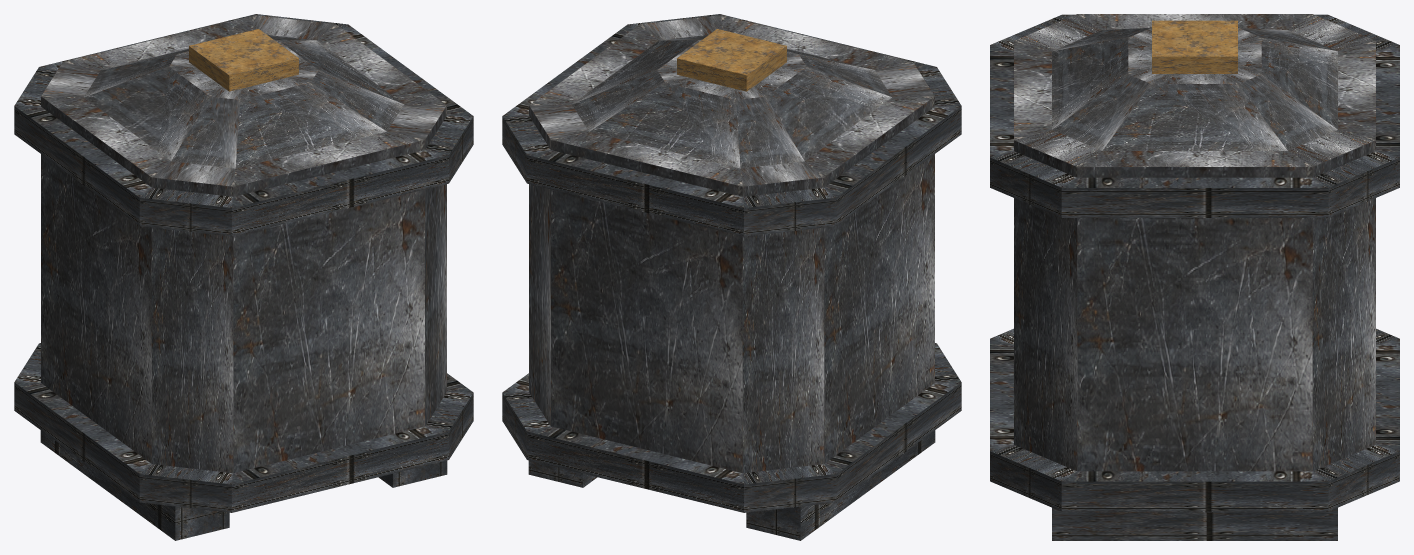
The model's file is tank.obj.
The picture shows the model from 3 angles, left to right: view 1: azimuth 30°, elevation 25°; view 2: azimuth 150°, elevation 25°; view 3: azimuth 270°, elevation 25°; orthographic projection. The views are drawn at different scales.
Parts seen in each view (by area): view 1: tank; view 2: tank; view 3: tank.
Part boxes in pixels (left/top/right/bottom): tank: left=14, top=14, right=473, bottom=540; tank: left=502, top=14, right=961, bottom=540; tank: left=990, top=14, right=1399, bottom=540.
Bounding box in the file's own units: 0.86 × 1 × 0.86.
Materials: 1 (1 with a texture image).
